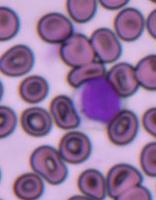L: (76, 75, 122, 124)
